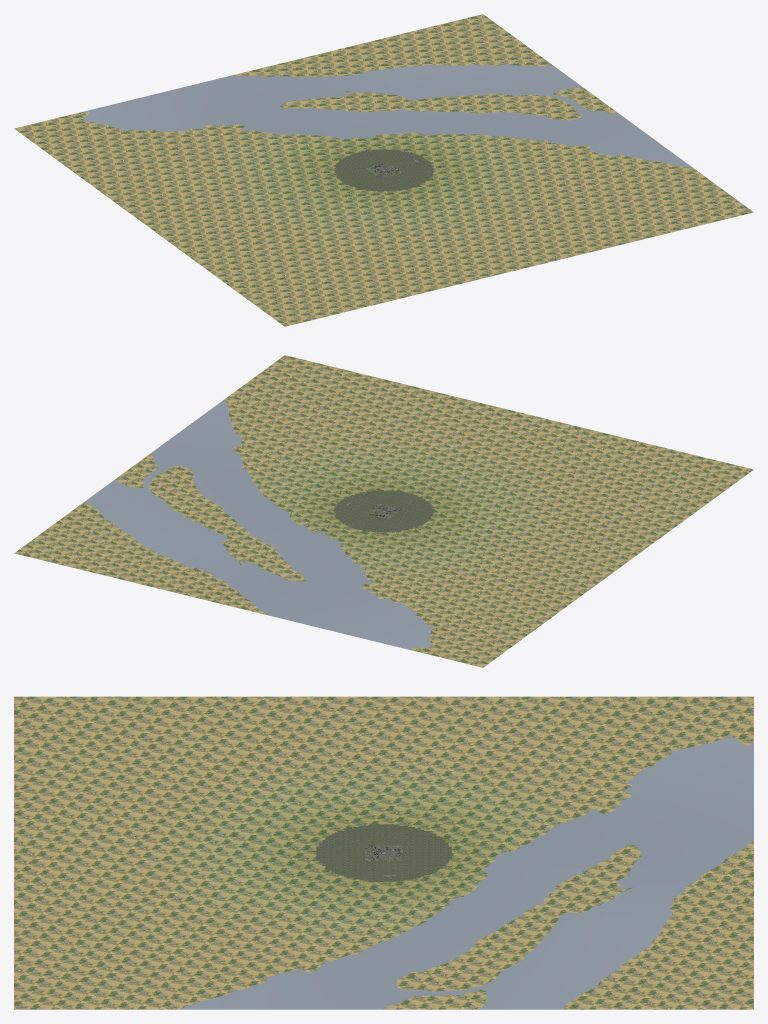
Rendered from jiangwan_backdrop_part1.glb.
3 views of the same model, one above another, from view 1: azimuth 30°, elevation 25°; view 2: azimuth 150°, elevation 25°; view 3: azimuth 270°, elevation 25° (orthographic). The views are drawn at different scales.
Visible parts, largest first — view 1: bg_far_terrain, bg_far_water, bg_far_suburb; view 2: bg_far_terrain, bg_far_water, bg_far_suburb; view 3: bg_far_terrain, bg_far_water, bg_far_suburb, bg_near_ground.
Boxes of the visible parts, x1,y1,x2,y2 form: bg_far_terrain: (14, 14, 753, 326); bg_far_water: (81, 64, 693, 326); bg_far_suburb: (333, 149, 433, 191); bg_far_terrain: (14, 355, 753, 667); bg_far_water: (84, 399, 718, 651); bg_far_suburb: (334, 490, 434, 532); bg_far_terrain: (14, 696, 753, 1009); bg_far_water: (14, 698, 753, 1009); bg_far_suburb: (316, 824, 451, 881); bg_near_ground: (365, 845, 402, 860).
Size of the model in its own units: 60000 by 197 by 60000.
Materials: 29 (20 with a texture image).
